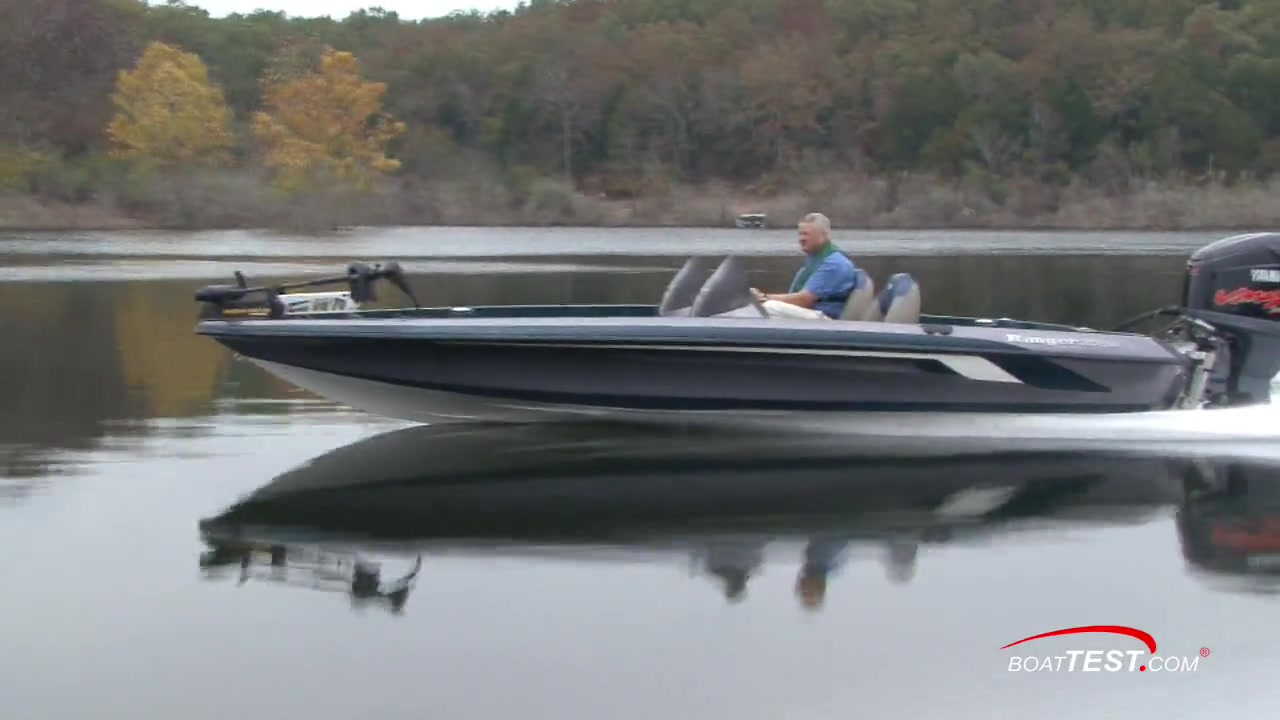boat: (193, 225, 1280, 428)
